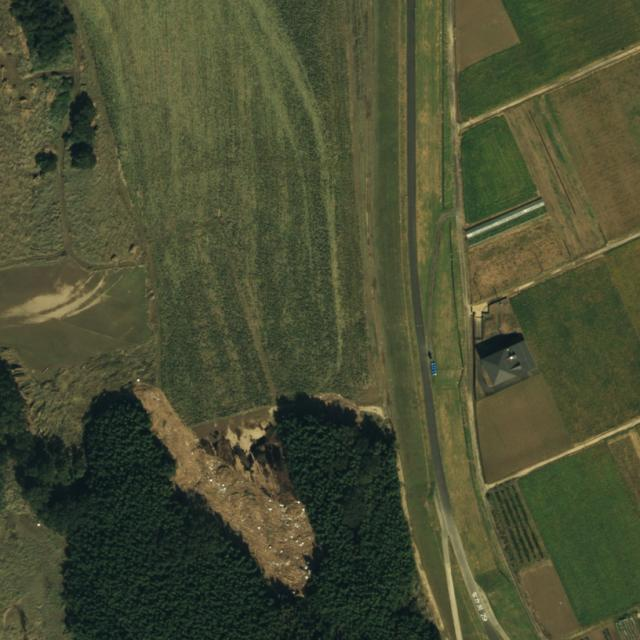landslide: (133, 382, 315, 595)
